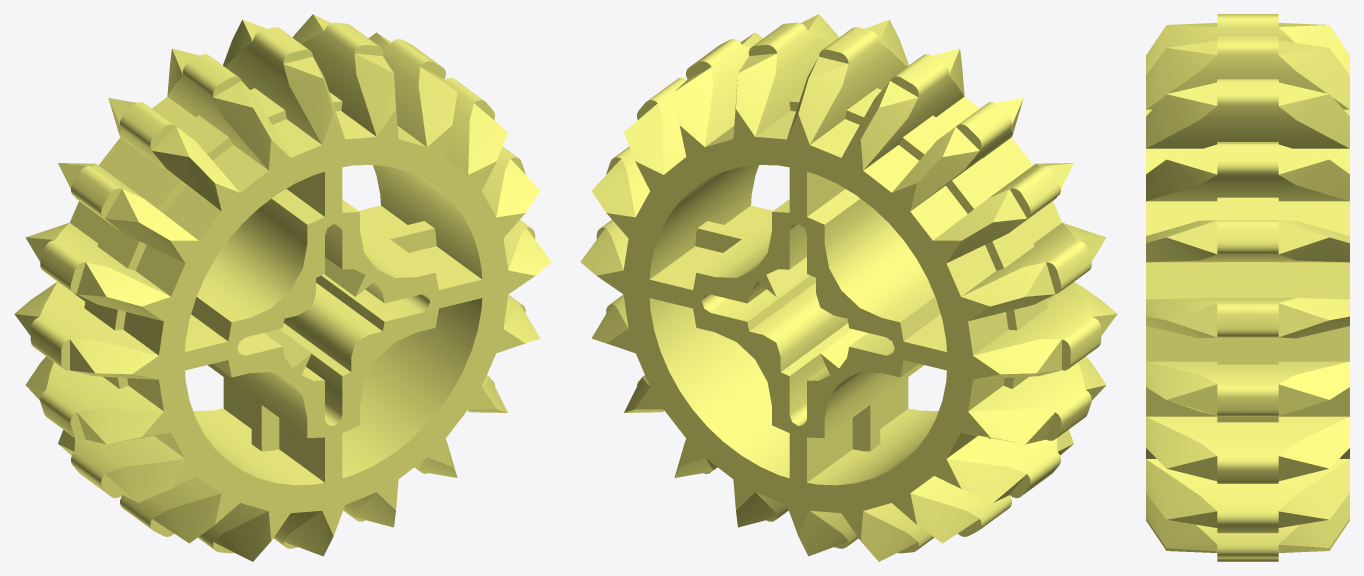
3 views of the same model, side by side, from view 1: azimuth 30°, elevation 25°; view 2: azimuth 150°, elevation 25°; view 3: azimuth 270°, elevation 25° (orthographic).
Parts seen in each view (by area): view 1: 32269.dat; view 2: 32269.dat; view 3: 32269.dat.
Boxes of the visible parts, <box> form: 32269.dat: <box>14,14,551,561</box>; 32269.dat: <box>580,14,1117,561</box>; 32269.dat: <box>1146,14,1349,561</box>.
Bounding box in the file's own units: 0.0216 × 0.0216 × 0.008.
